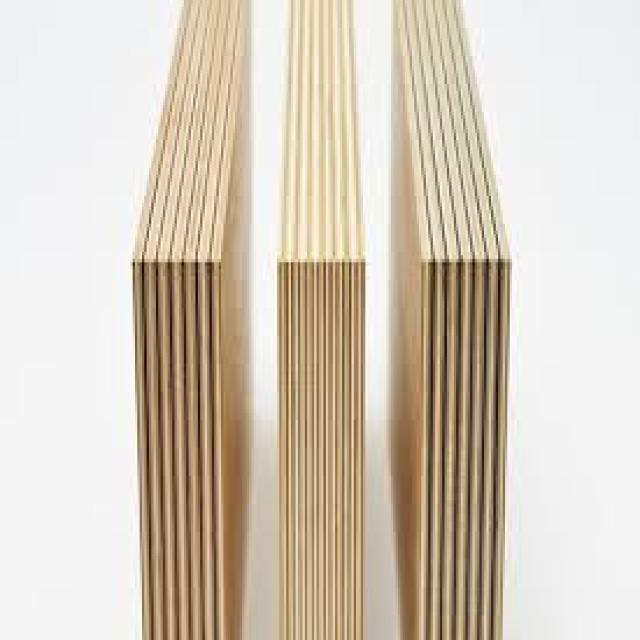Woods: (393, 0, 512, 640), (130, 0, 242, 640), (286, 0, 368, 640)
